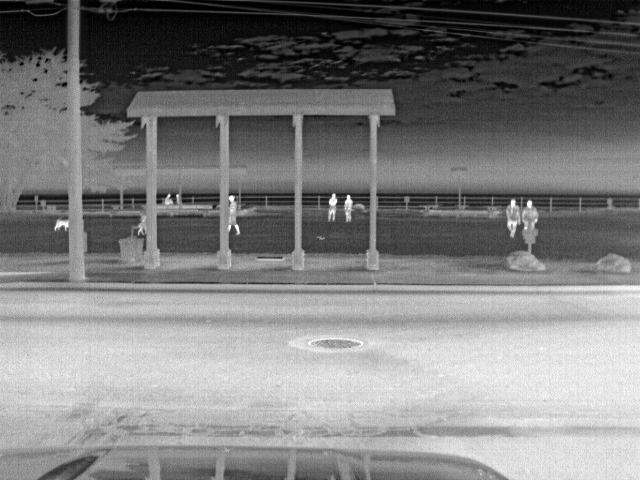dog: (51, 216, 70, 230), (133, 216, 145, 235)
person: (226, 192, 244, 239), (520, 197, 540, 231), (506, 196, 522, 237), (325, 191, 341, 224), (342, 191, 356, 228), (173, 192, 185, 206), (161, 192, 174, 204)
